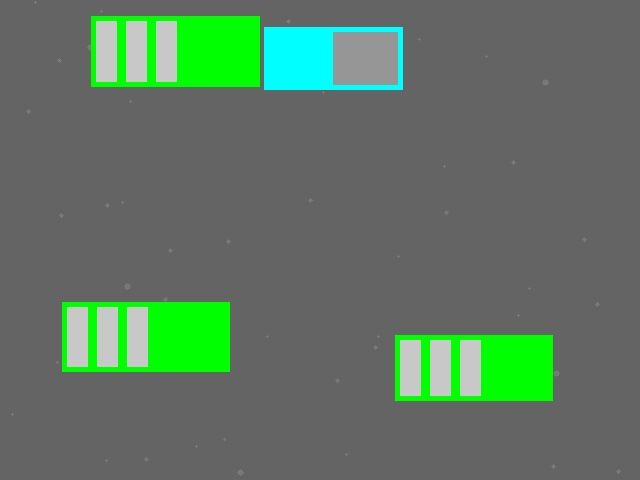bus: (91, 16, 259, 86), (62, 302, 229, 371), (395, 335, 552, 400)
truck: (264, 27, 402, 89)
